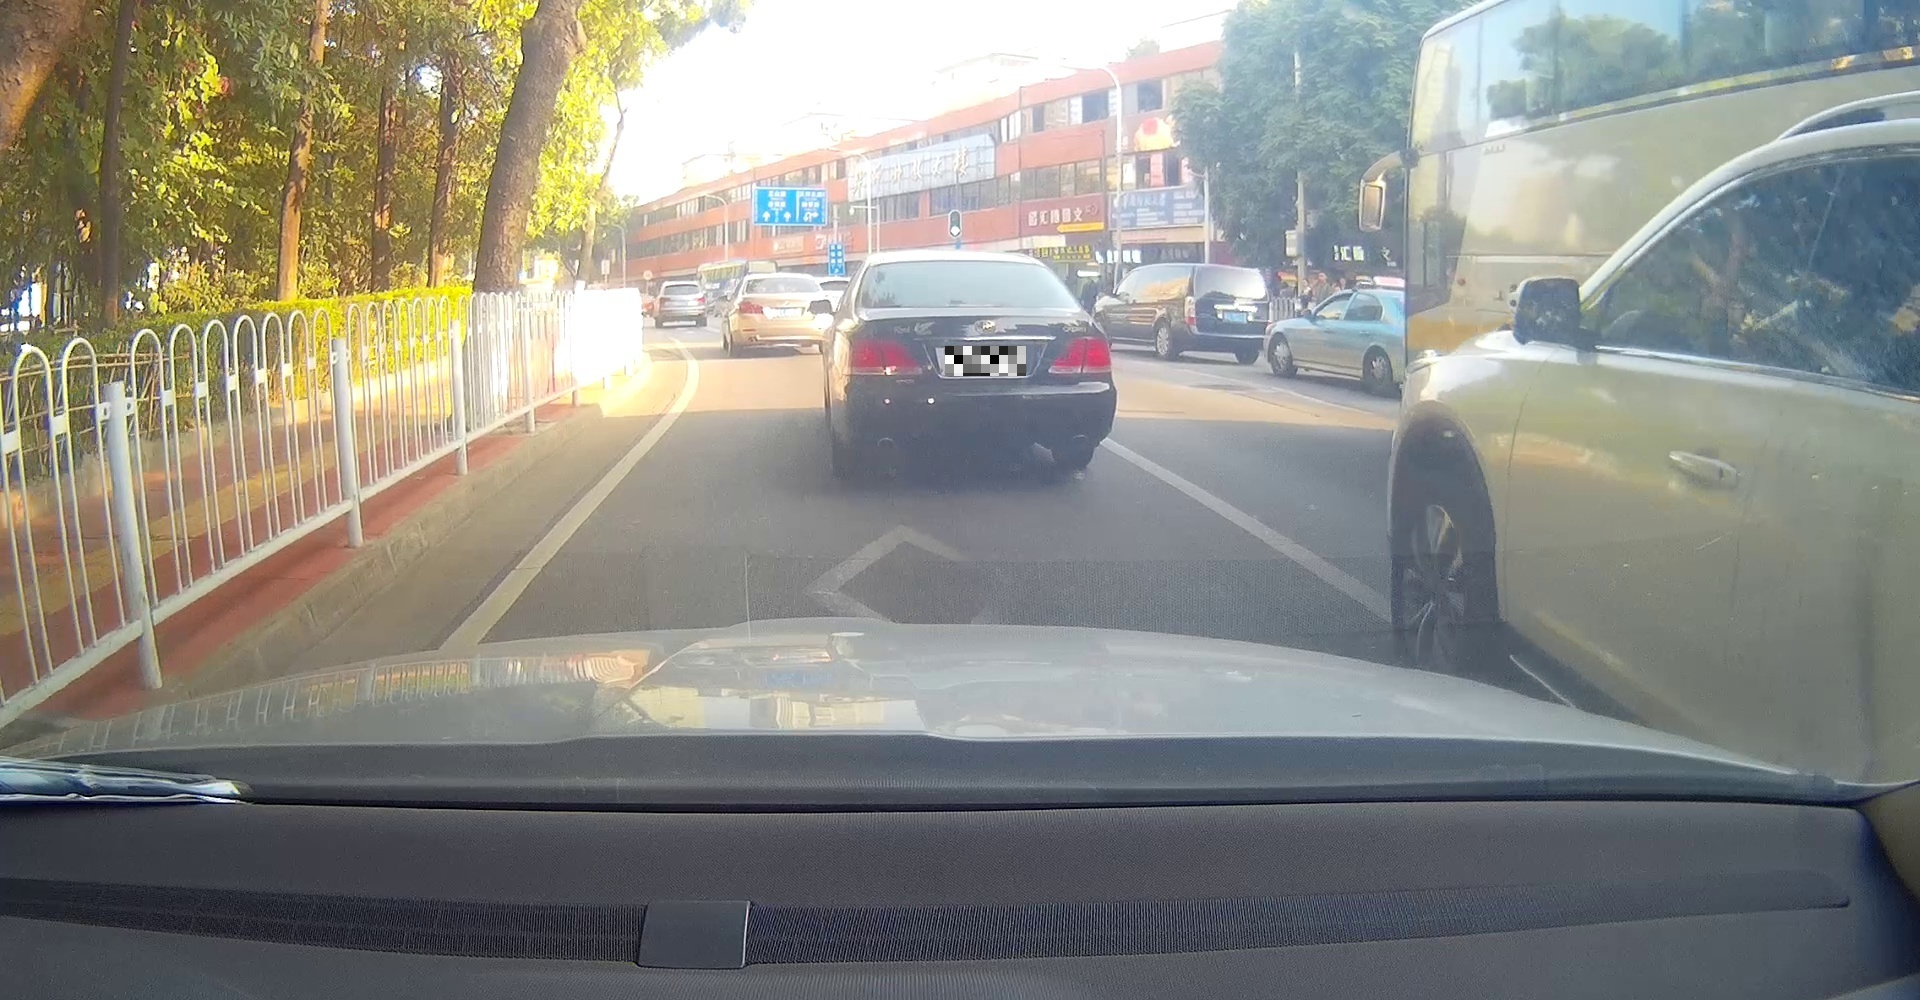L_light: (841, 338, 923, 377), (659, 297, 670, 303)
R_light: (1048, 335, 1112, 374), (697, 296, 706, 303)
T_light: (945, 299, 1004, 307)
day-no: (839, 249, 1117, 473), (657, 280, 707, 327)
plate_1: (945, 346, 1026, 376)
